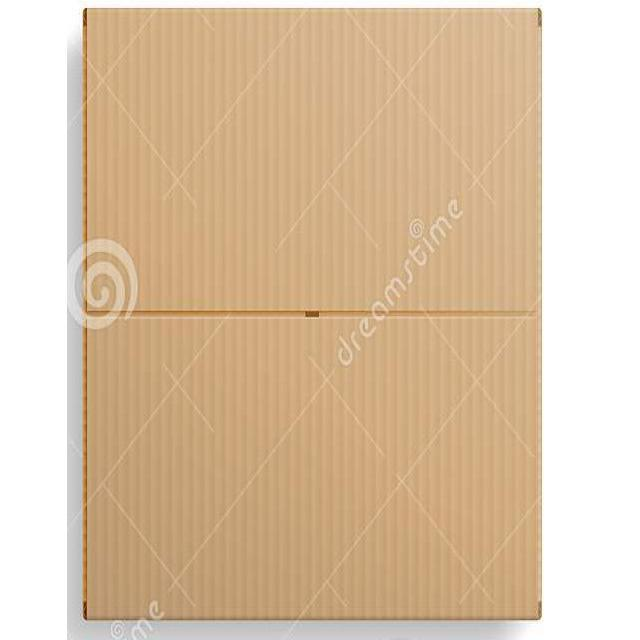box: (81, 5, 540, 619)
